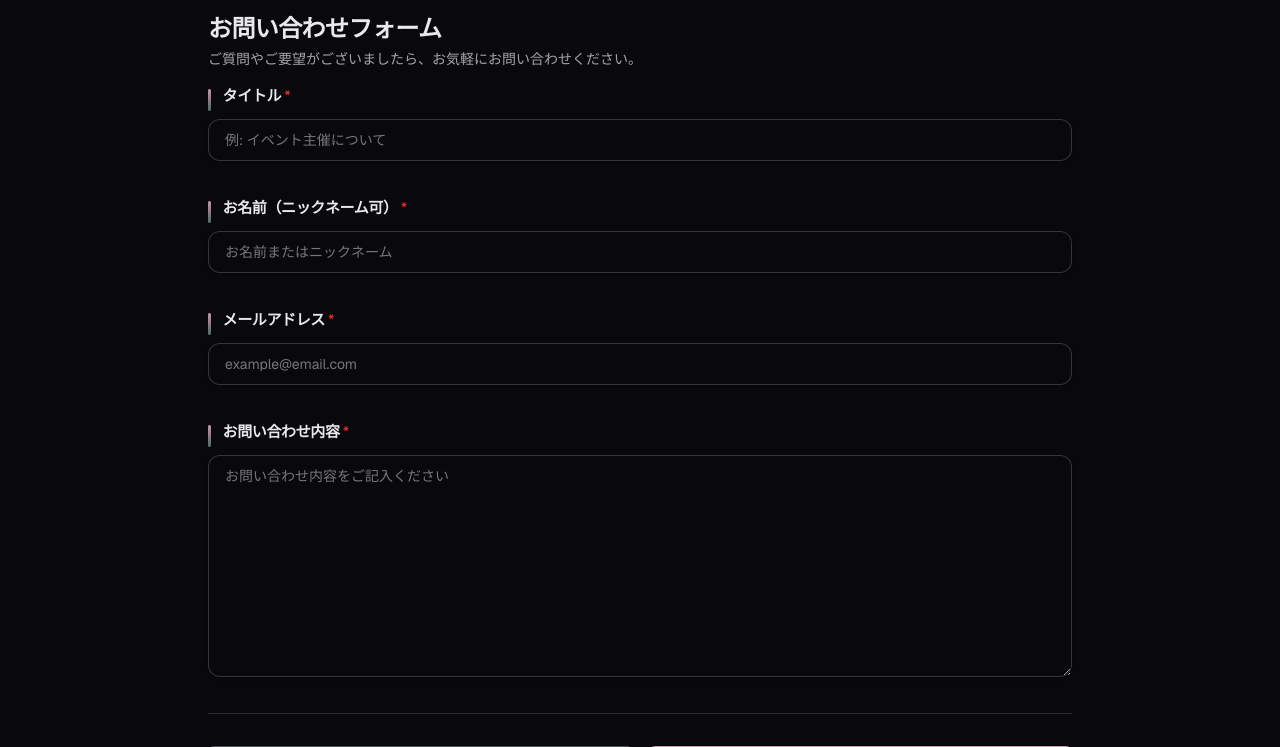
Test: ContactPage › エラーが発生した場合、エラーモーダルを表示する
Step 1. Type "テストタイトル" into the field with placeholder "例: イベント主催について" → (640, 140), box [208, 119, 1072, 161]
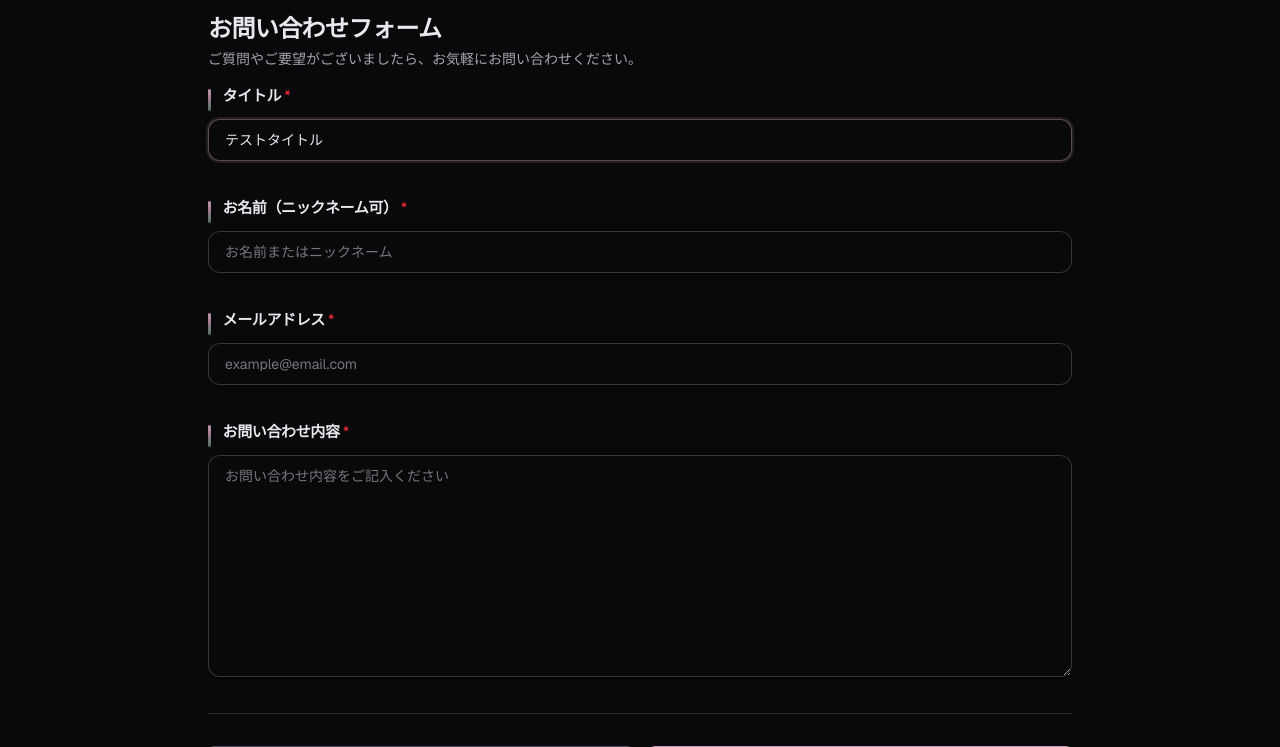
Step 2. Type "テストユーザー" into the field with placeholder "お名前またはニックネーム" → (640, 252), box [208, 231, 1072, 273]
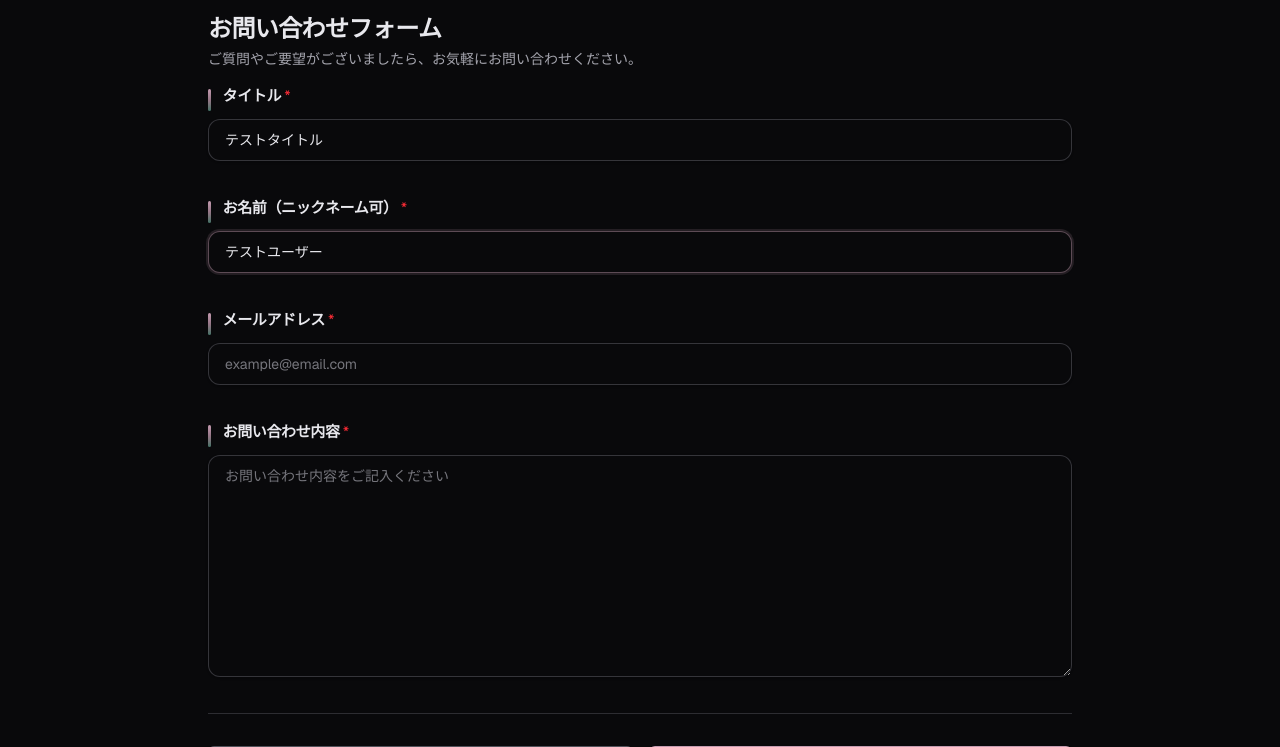
Step 3. Type "test@example.com" into the field with placeholder "example@email.com" → (640, 364), box [208, 343, 1072, 385]
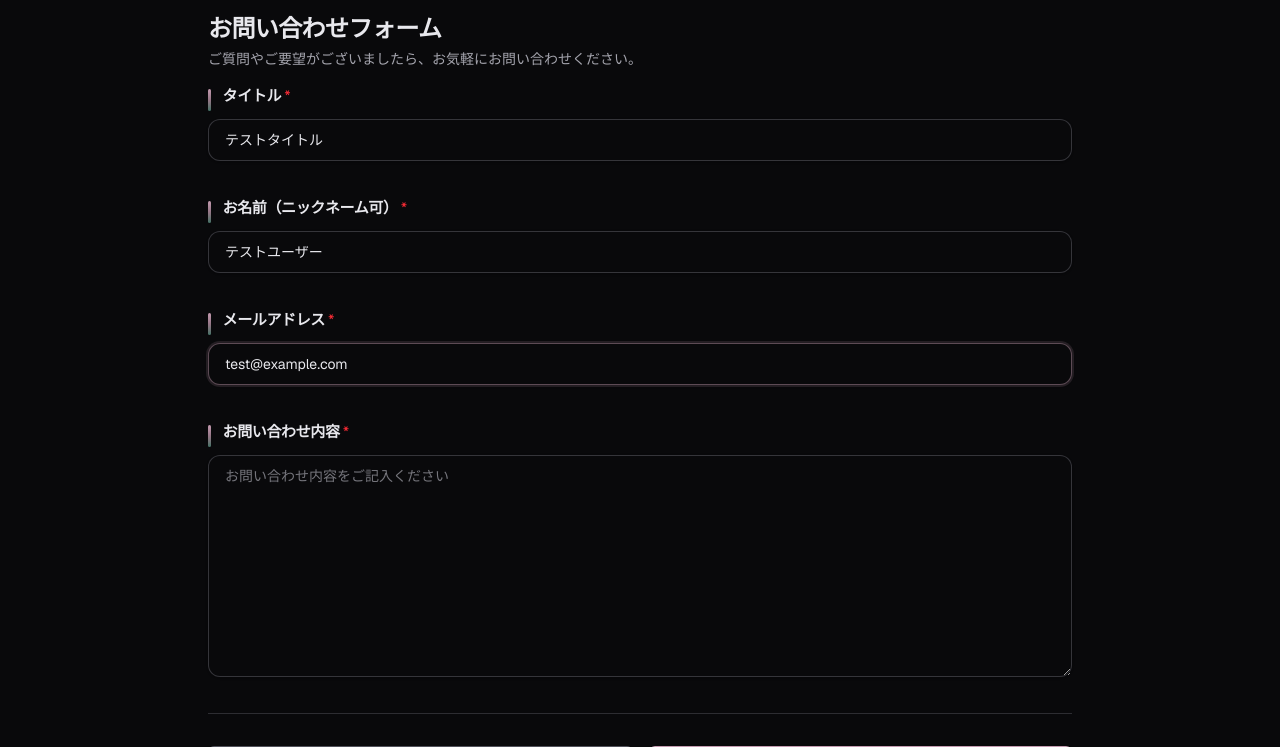
Step 4. Type "テスト内容" into the text box with placeholder "お問い合わせ内容をご記入ください" → (640, 566), box [208, 455, 1072, 677]
(page scrolled)
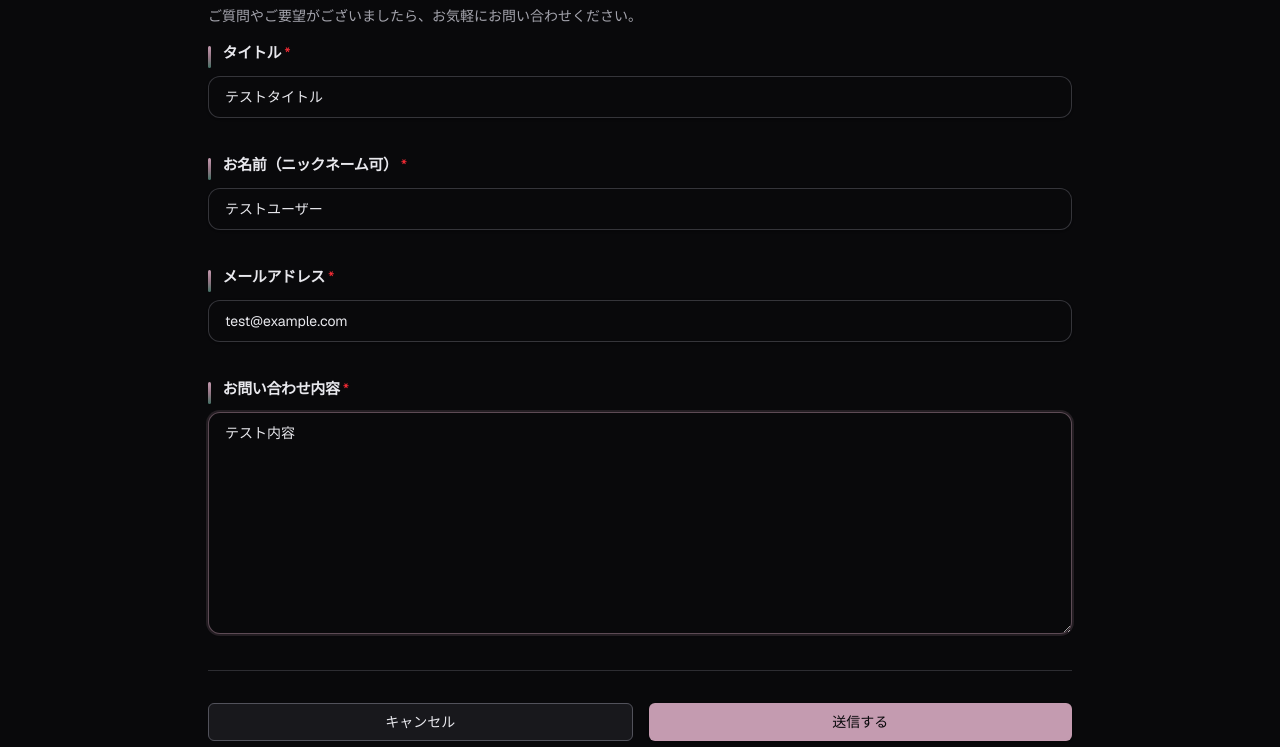
Step 5. Click the button "送信する" → (860, 722), box [648, 703, 1072, 741]
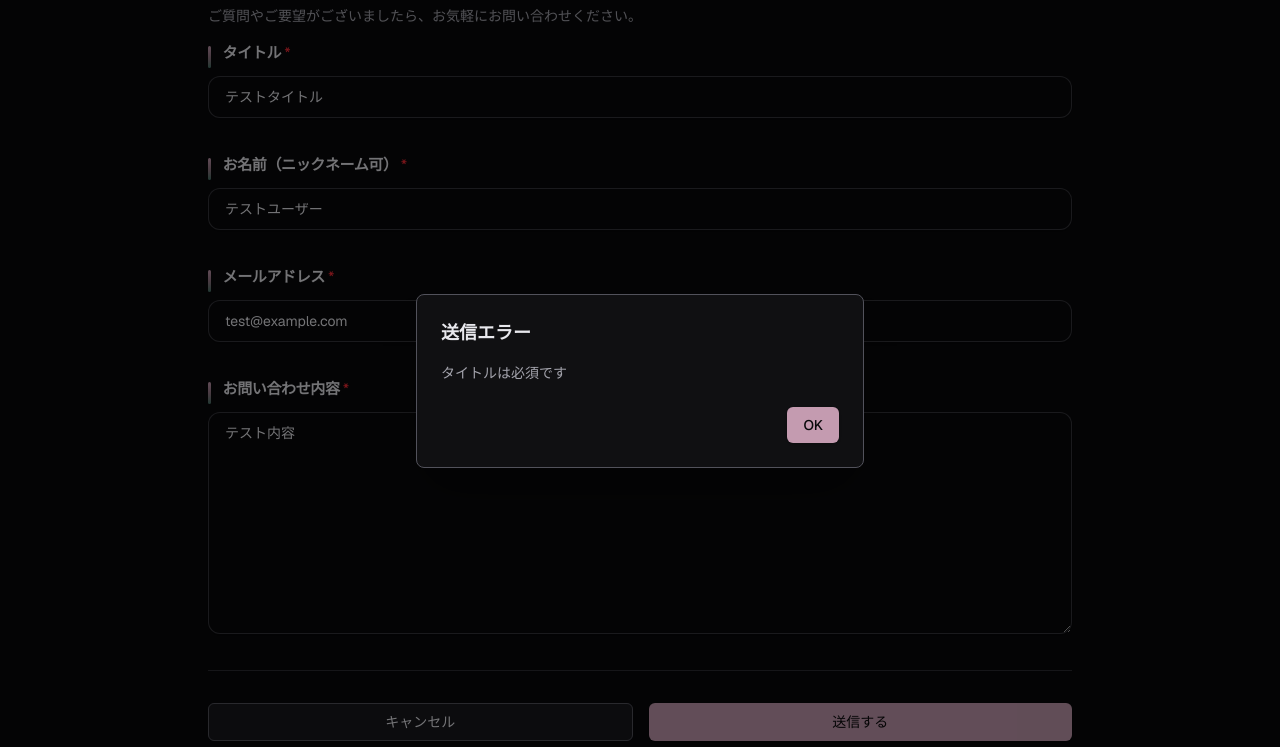
Expected: the heading "送信エラー" is shown, [441, 321, 531, 344]
